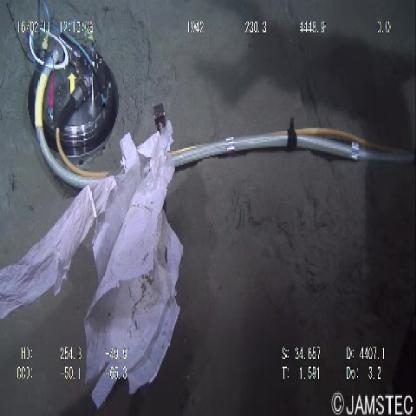Rov: (20, 14, 121, 166)
Rác: (1, 116, 174, 394)
